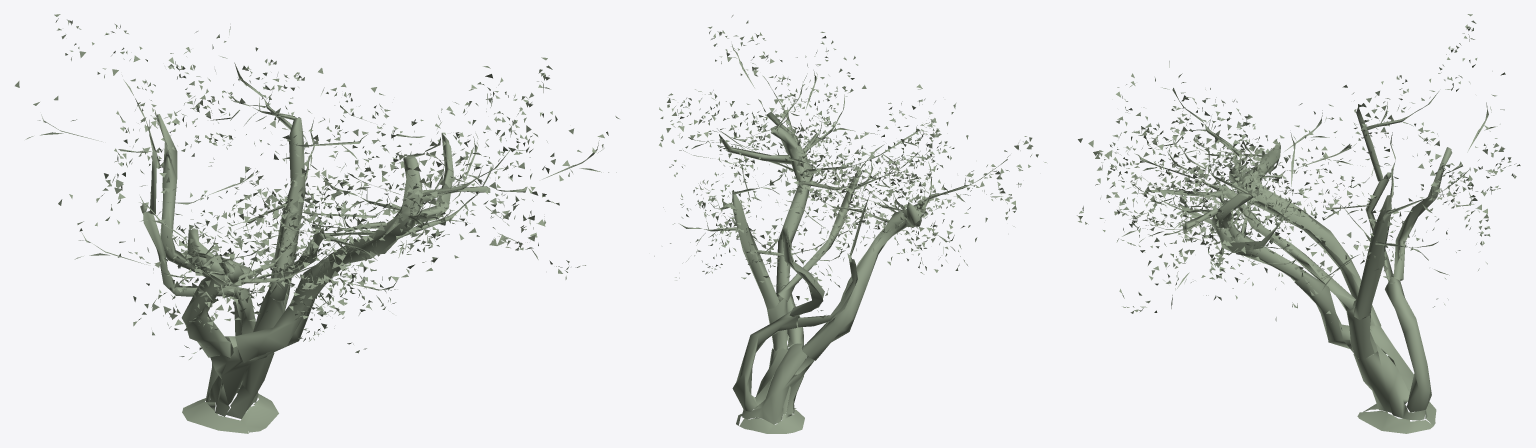
Rendered from polyhaven-island-tree-02-woodland-lod.glb.
3 renders of one model, left to right at view 1: azimuth 30°, elevation 25°; view 2: azimuth 150°, elevation 25°; view 3: azimuth 270°, elevation 25°, orthographic. The views are drawn at different scales.
Visible parts, largest first — view 1: Woodland_LOD_island_tree_02, Woodland_LOD_island_tree_02_leaves, Woodland_LOD_island_tree_02_branches; view 2: Woodland_LOD_island_tree_02, Woodland_LOD_island_tree_02_leaves, Woodland_LOD_island_tree_02_branches; view 3: Woodland_LOD_island_tree_02, Woodland_LOD_island_tree_02_leaves, Woodland_LOD_island_tree_02_branches.
Boxes of the visible parts, x1=… form: Woodland_LOD_island_tree_02: x1=140, y1=114, x2=490, y2=433; Woodland_LOD_island_tree_02_leaves: x1=15, y1=14, x2=619, y2=353; Woodland_LOD_island_tree_02_branches: x1=25, y1=20, x2=616, y2=359; Woodland_LOD_island_tree_02: x1=719, y1=112, x2=928, y2=433; Woodland_LOD_island_tree_02_leaves: x1=659, y1=15, x2=1038, y2=318; Woodland_LOD_island_tree_02_branches: x1=654, y1=31, x2=1046, y2=316; Woodland_LOD_island_tree_02: x1=1147, y1=107, x2=1452, y2=433; Woodland_LOD_island_tree_02_leaves: x1=1078, y1=14, x2=1520, y2=321; Woodland_LOD_island_tree_02_branches: x1=1077, y1=27, x2=1517, y2=330.
Size of the model in its own units: 3.76 by 3.4 by 3.96.
